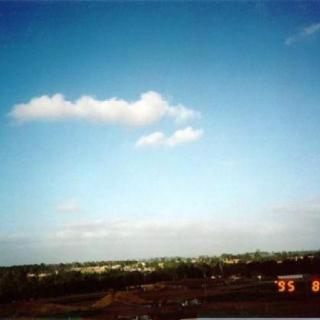Stratus: (4, 80, 210, 157), (260, 0, 278, 7)
